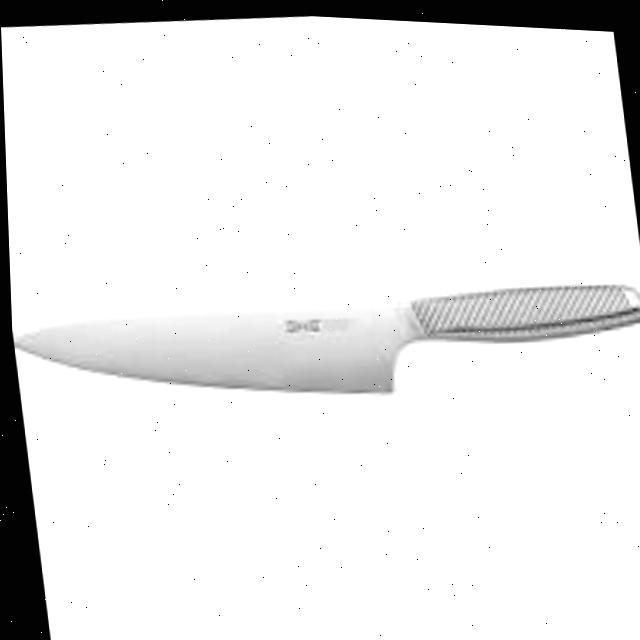knife: (7, 244, 640, 429)
